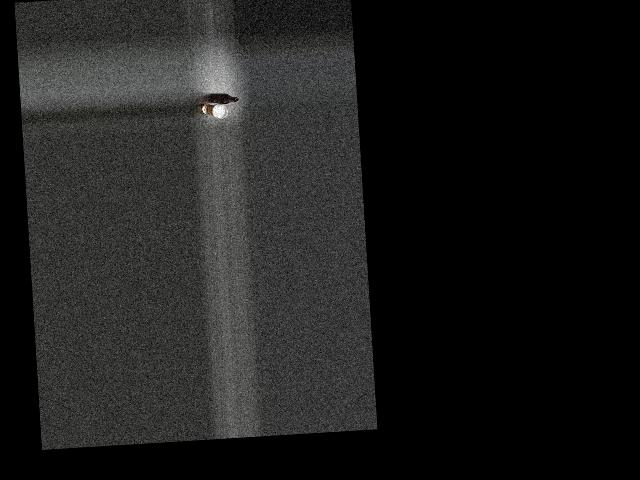beer: (207, 91, 238, 105)
